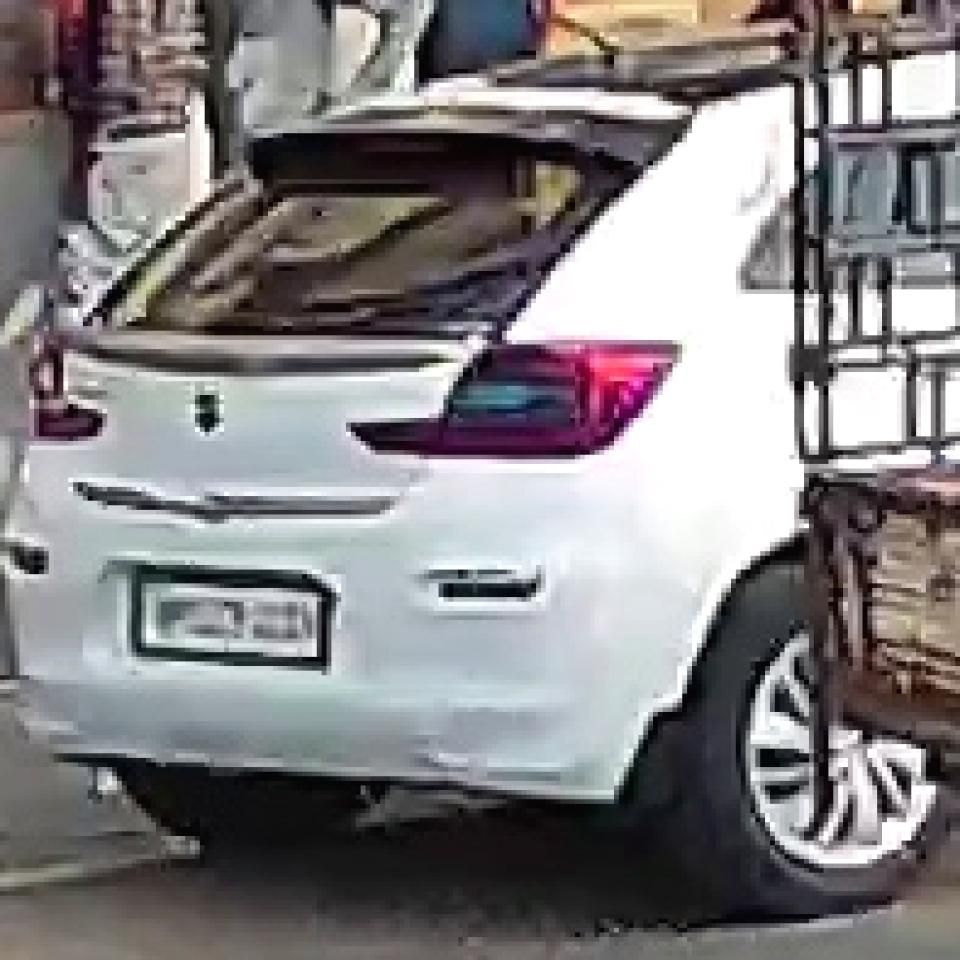tail_light: (432, 338, 684, 461)
